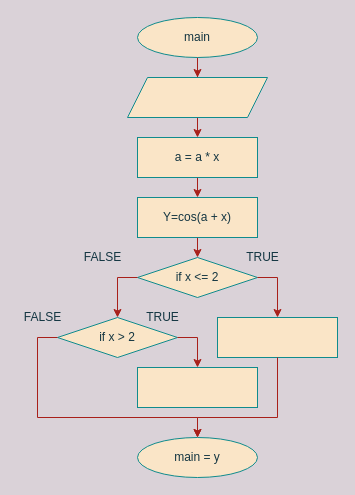
Image size: 355x495. Some labels were removed from this diagram. The shapes that lost their labels are listed below. From the top down, each one's centre as x and y in pixels, then its label:
At (x=197, y=97): "cin x, a".
At (x=277, y=337): "y = x* (x** 3) + Y".
At (x=197, y=387): "y = (x + 3*Y) * x".
